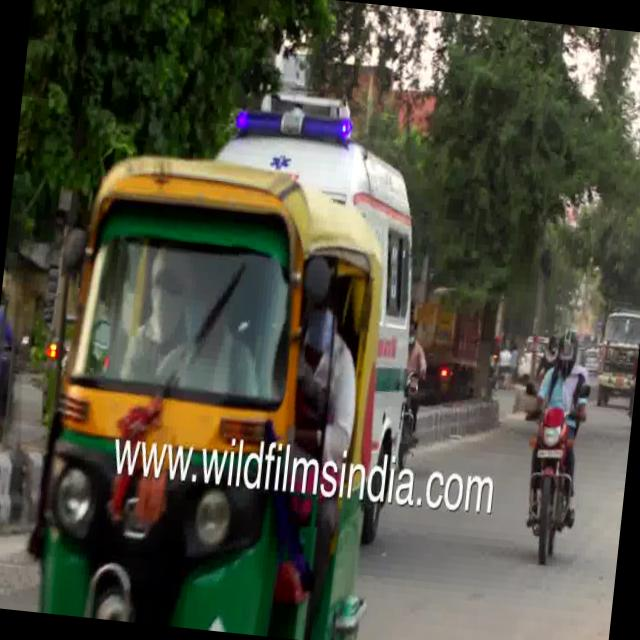ambulance: (189, 76, 426, 196), (356, 164, 430, 545)
